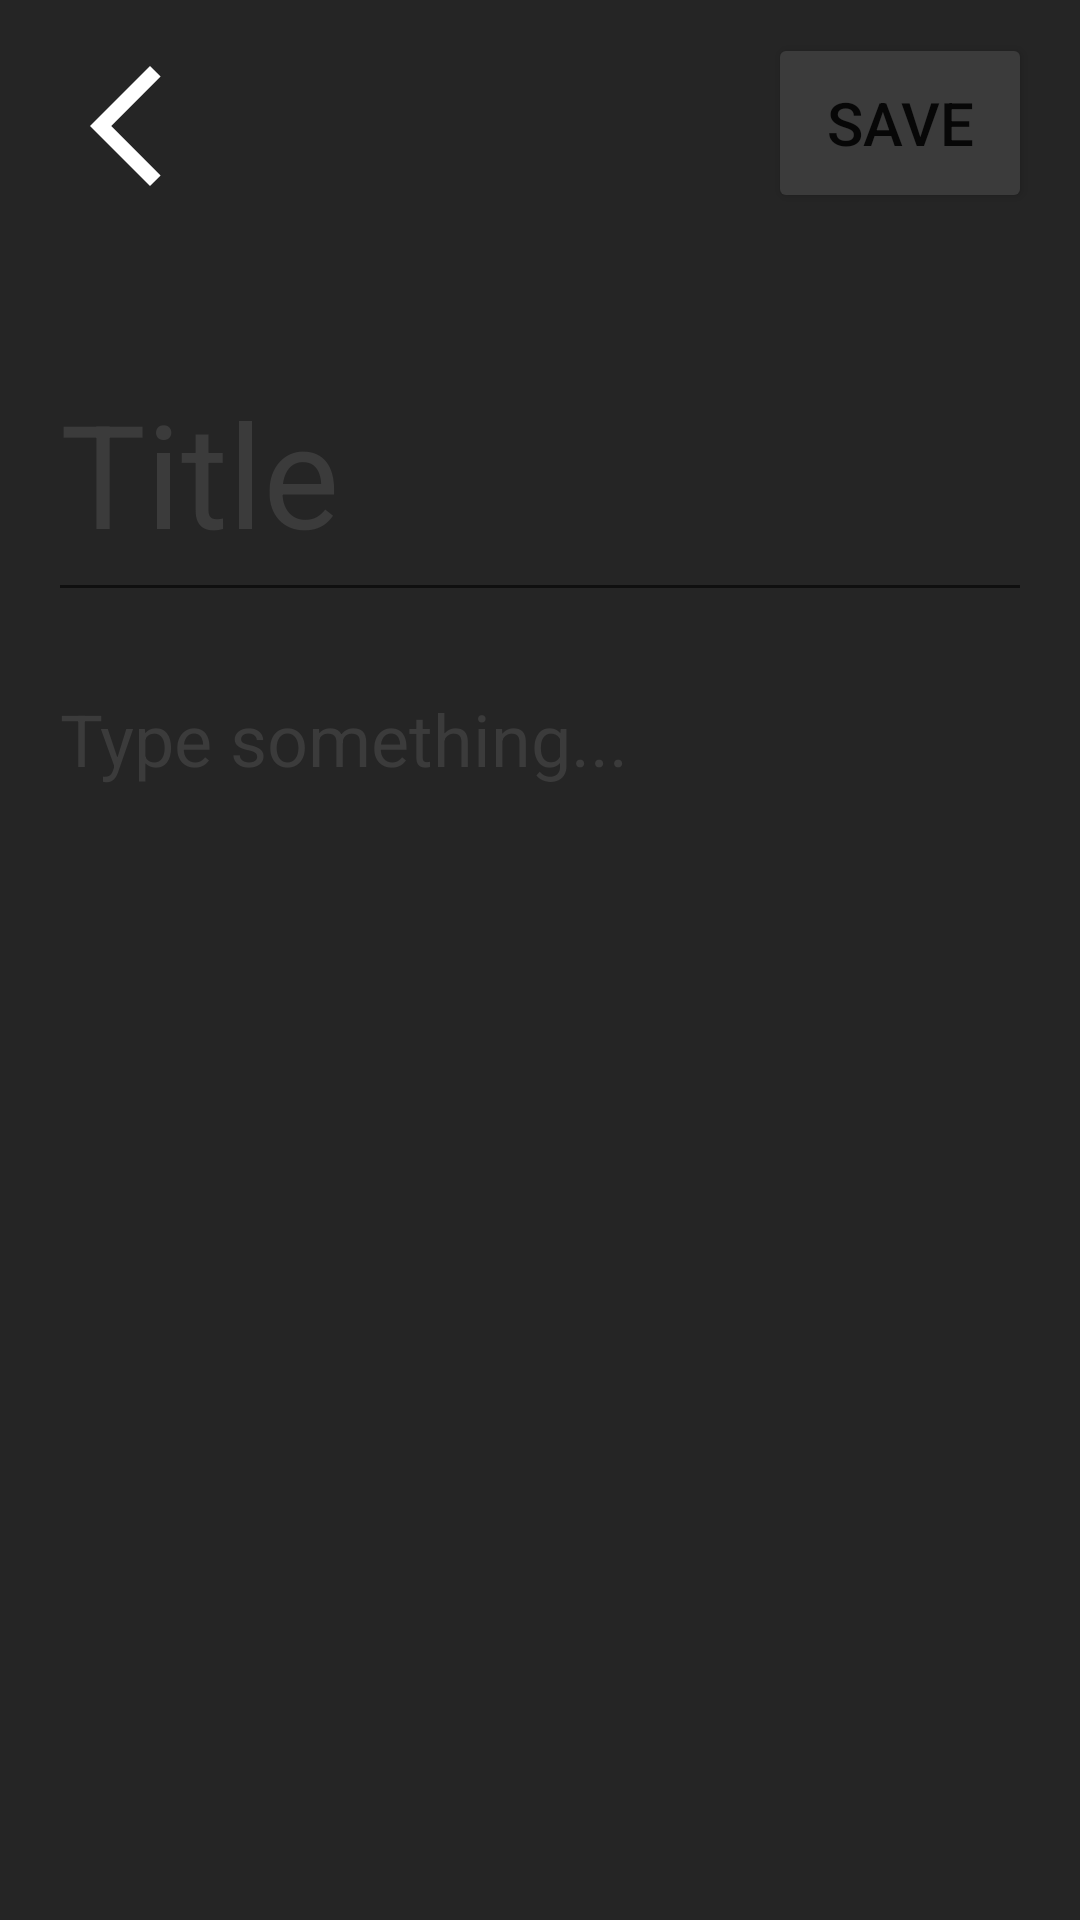

Locate icon controls on the screen. Image size 1080px×1920px, boxes as (x1, y1, x2, y2).
arrow back: (90, 66, 161, 186)
